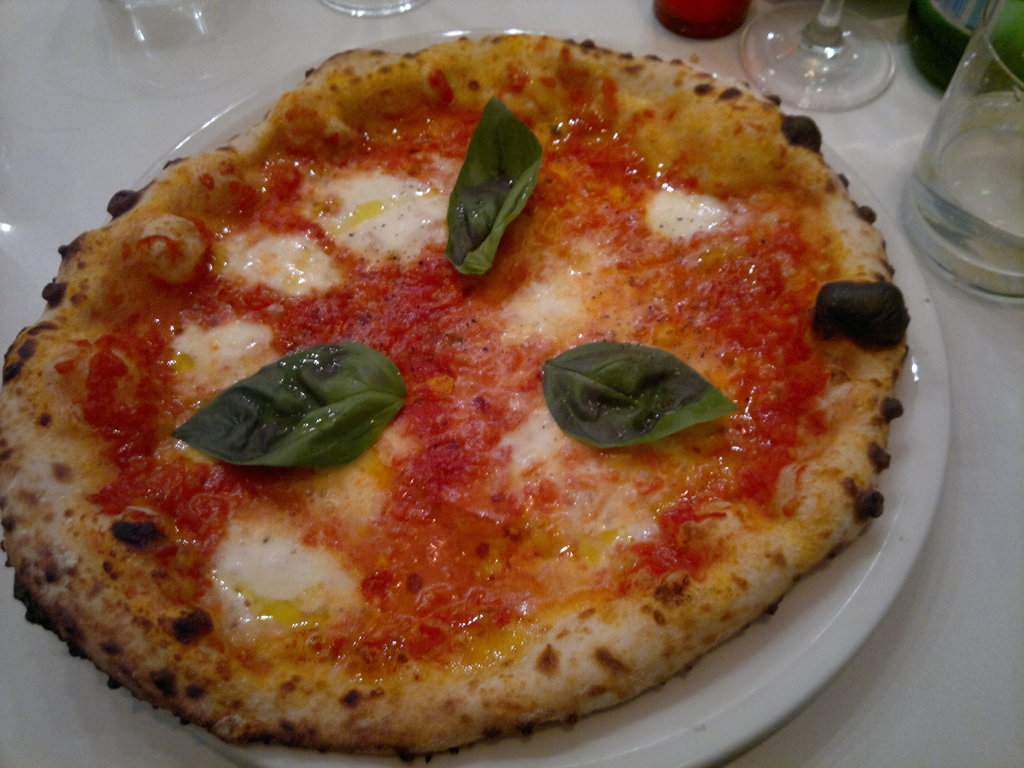Pizza: (0, 28, 911, 750)
